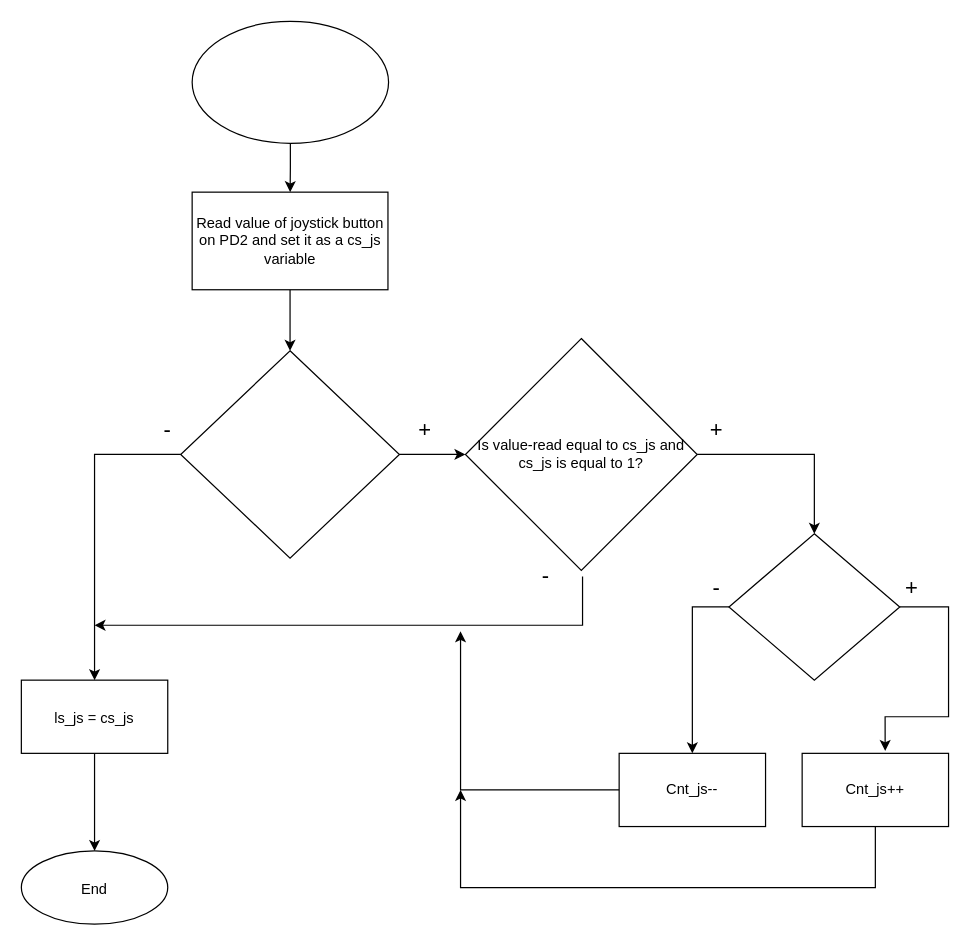
Some shapes in this 980 by 946 pixel diagram are drawn without their labels. Here are the shapes that lost their labels. From the top down, the centre of each, then its label:
At (290,81): "ISR(TIMER2_OVF_VECT)".
At (289,454): "Is cs_js not equal to ls_js?".
At (814,606): "Is cnt_js equal to zero?".
